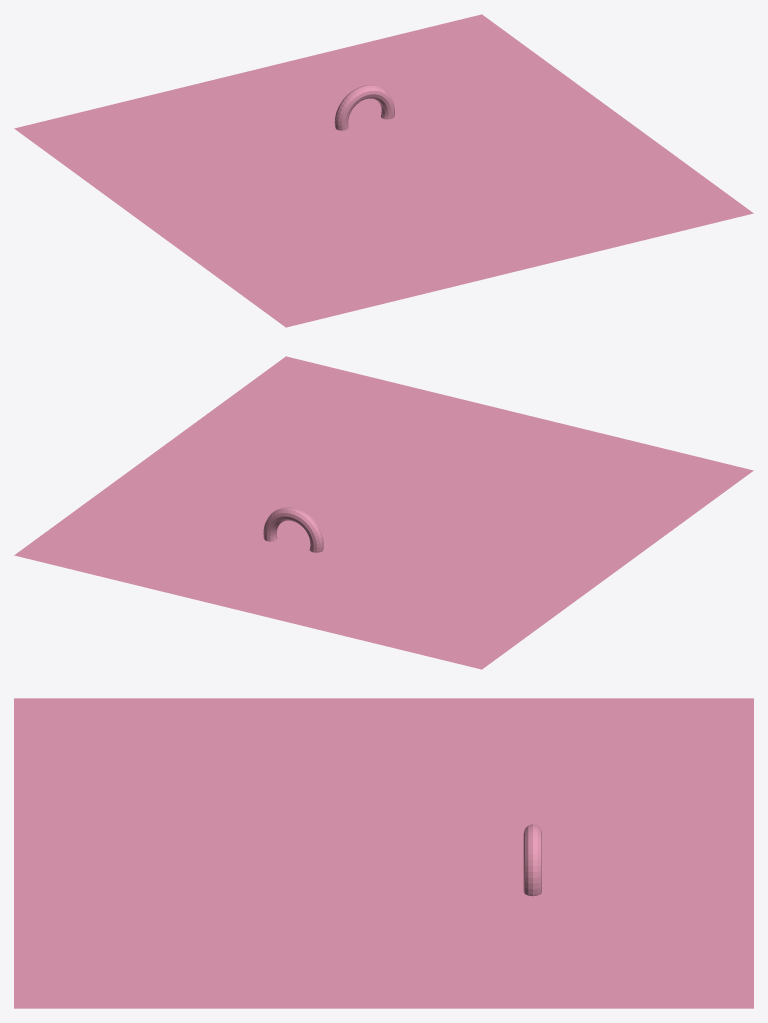
The model's file is planeTorus.glb.
3 renders of one model, top to bottom at view 1: azimuth 30°, elevation 25°; view 2: azimuth 150°, elevation 25°; view 3: azimuth 270°, elevation 25°, orthographic. The views are drawn at different scales.
Parts seen in each view (by area): view 1: Torus; view 2: Torus; view 3: Torus.
Boxes of the visible parts, left/top/right/bottom form: Torus: left=14, top=14, right=753, bottom=327; Torus: left=14, top=356, right=753, bottom=669; Torus: left=14, top=698, right=753, bottom=1008.
Bounding box in the file's own units: 100 × 7.33 × 101.
